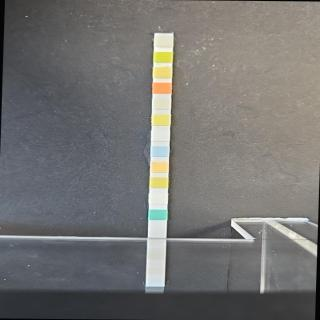mark: (153, 66, 172, 78), (154, 81, 171, 94), (150, 160, 168, 172), (152, 113, 170, 125), (149, 193, 168, 204), (149, 208, 166, 220), (151, 176, 168, 188), (151, 130, 168, 142), (156, 35, 173, 47), (154, 52, 172, 63), (153, 97, 170, 108), (152, 146, 168, 156)
